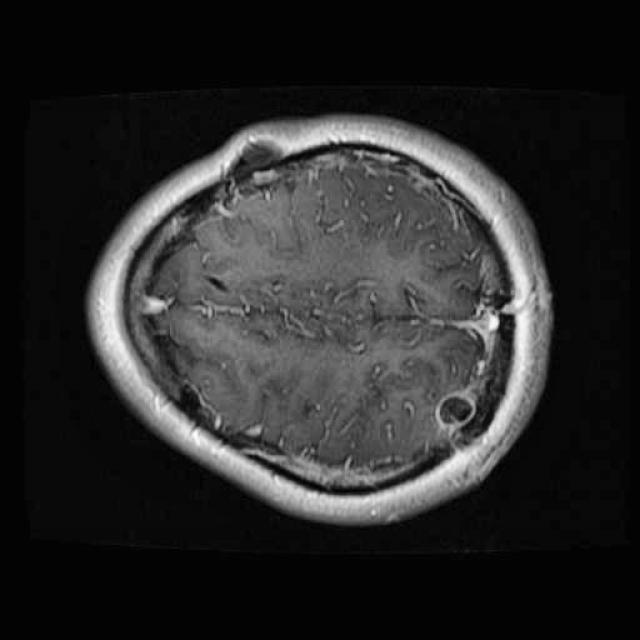Tumor: (427, 385, 485, 435)
